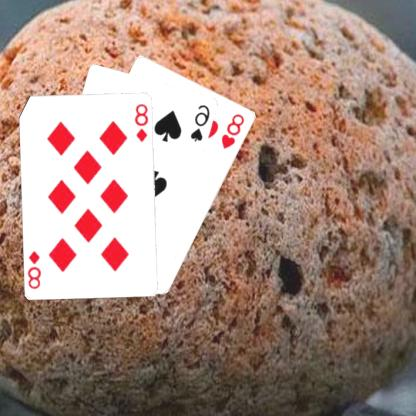6S: (190, 102, 213, 142)
8D: (28, 247, 45, 290), (134, 101, 151, 143)
8H: (220, 110, 248, 150)
